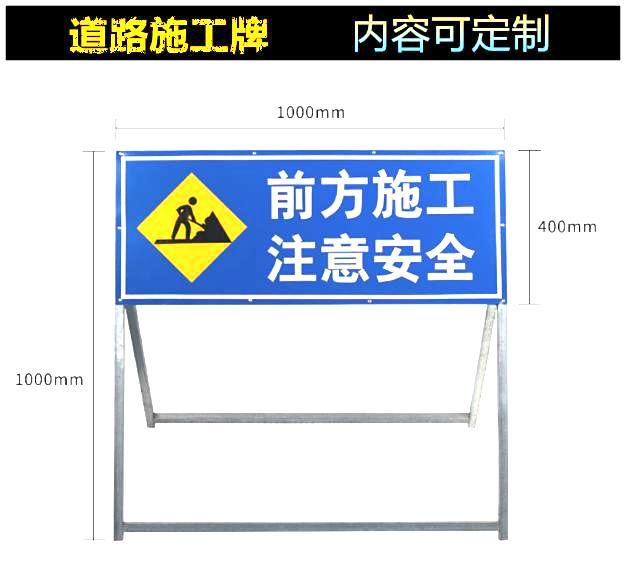sign: (116, 153, 503, 300)
